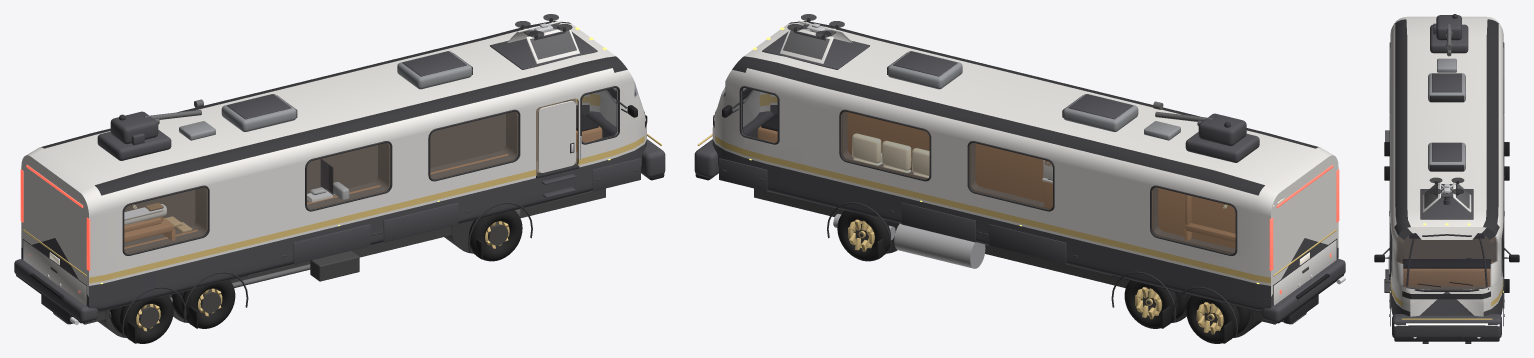
Rendered from StarParkLuxuryBusRV.glb.
3 views of the same model, side by side, from view 1: azimuth 30°, elevation 25°; view 2: azimuth 150°, elevation 25°; view 3: azimuth 270°, elevation 25° (orthographic). The views are drawn at different scales.
Visible parts, largest first — view 1: RV_Body, cabin_liner, glzR0, glzR2, glzR1, door_leaf, rail_-1, bay_-1_-0.05, bay_-1_1.8, glzR3, whF_-1_tire, bumper_R (+21 smaller); view 2: RV_Body, backdrop_L, glzL0, glzL1, glzL2, fuel_tank, rail_1, cabin_liner, bay_1_-0.05, bay_1_1.8, glzL3, bumper_R (+21 smaller); view 3: RV_Body, bumper_F, cabin_liner, dash_main, dp_base, dash_pad, tr_base, ac_top_0, ac_top_1, tr_body, wiper_cowl, valance_F (+16 smaller).
Boxes of the visible parts, x1,y1,x2,y2 form: RV_Body: (21,21,646,311); cabin_liner: (124,98,577,253); glzR0: (430,112,517,178); glzR2: (124,187,206,253); glzR1: (307,143,389,208); door_leaf: (538,100,575,172); rail_-1: (83,188,605,324); bay_-1_-0.05: (293,224,370,264); bay_-1_1.8: (383,202,458,242); glzR3: (582,88,617,142); whF_-1_tire: (468,210,522,261); bumper_R: (14,259,97,322); RV_Body: (712,21,1338,311); backdrop_L: (847,112,1235,248); glzL0: (842,112,929,178); glzL1: (970,143,1052,208); glzL2: (1153,187,1235,253); fuel_tank: (894,223,985,268); rail_1: (754,188,1276,324); cabin_liner: (841,111,1235,253); bay_1_-0.05: (989,224,1066,264); bay_1_1.8: (901,202,975,242); glzL3: (742,88,777,142); bumper_R: (1262,259,1345,322); RV_Body: (1390,16,1503,316); bumper_F: (1392,314,1501,338); cabin_liner: (1397,235,1496,289); dash_main: (1401,261,1492,286); dp_base: (1420,189,1473,219); dash_pad: (1402,259,1491,268); tr_base: (1430,24,1468,53); ac_top_0: (1432,142,1461,161); ac_top_1: (1432,73,1461,92); tr_body: (1436,15,1461,40); wiper_cowl: (1402,291,1490,299); valance_F: (1394,338,1499,341).
Size of what is drawn, in the model's own units: 12.44 by 4.14 by 3.28.
